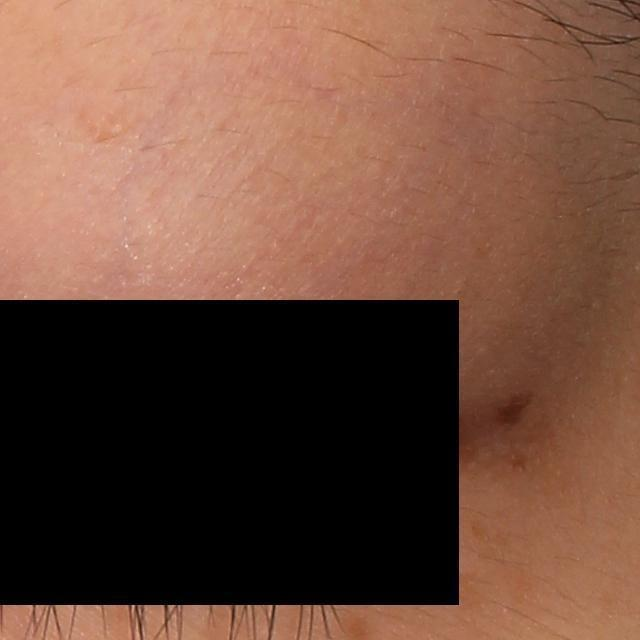atrophic_scar: (492, 390, 539, 427)
